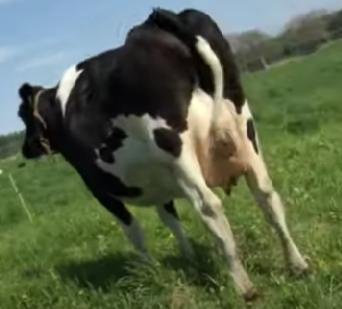cow: (19, 13, 311, 302)
